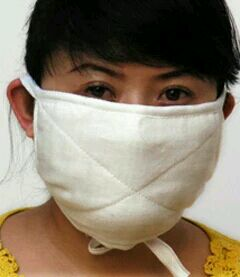face_mask: (41, 6, 221, 225)
